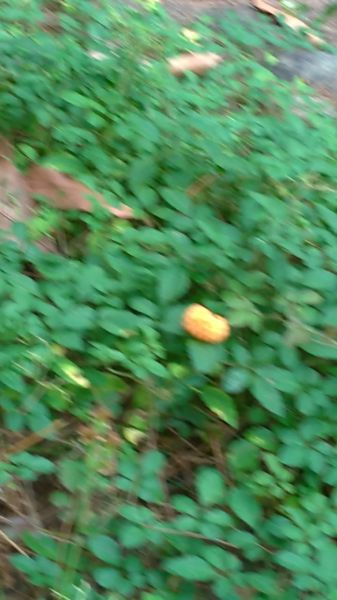eggs: (177, 300, 239, 352)
